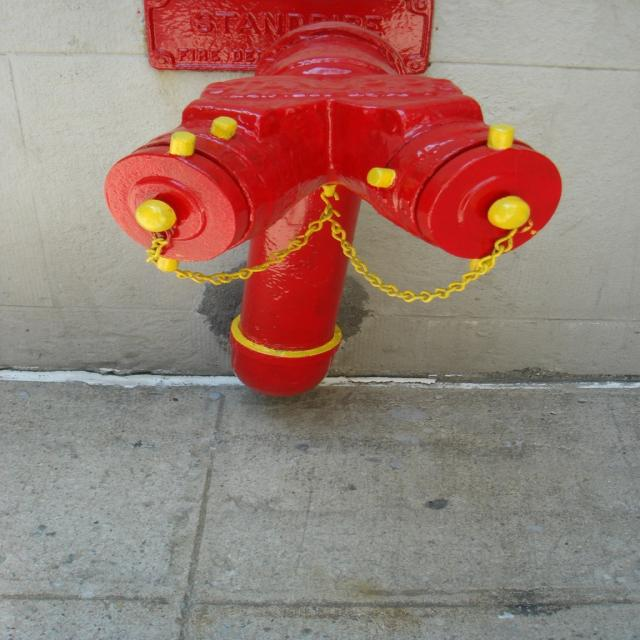fire_hydrant: (105, 21, 564, 396)
